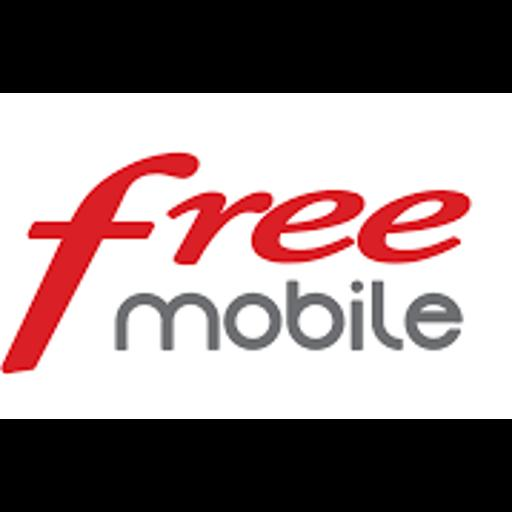Free ISP: (0, 93, 512, 419)
